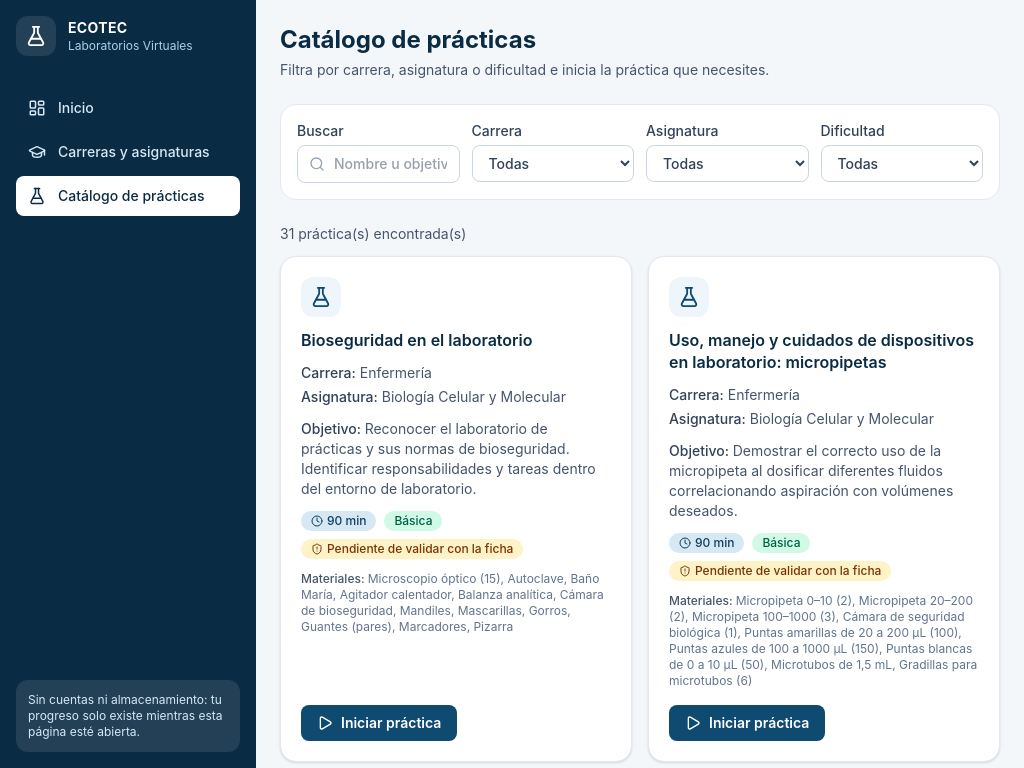
recorrido del estudiante › el catálogo muestra las 31 prácticas y filtra por carrera
The image size is (1024, 768).
expect the text "31 práctica(s) encontrada(s)" is shown: met, box [280,225,466,242]
Step 1. Select "Psicología" in the dropdown labelled "Carrera" → (553, 164), box [472,145,634,182]
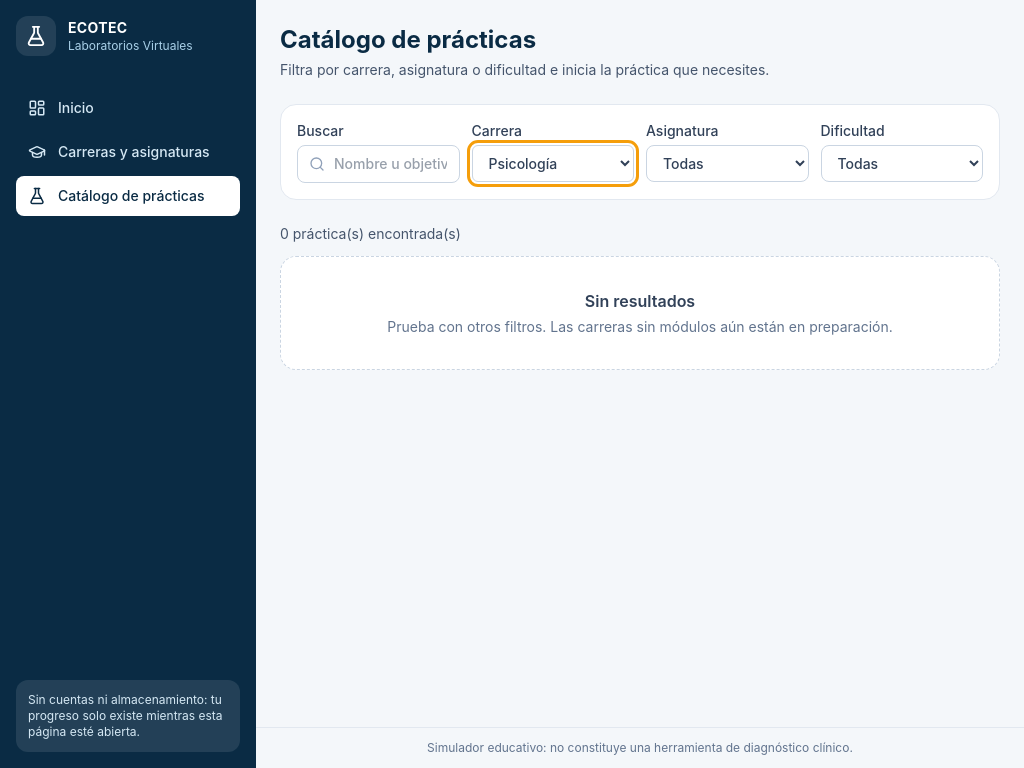
expect the text "0 práctica(s) encontrada(s)" is shown: met, box [280,225,461,242]
Step 2. Select "Medicina" in the dropdown labelled "Carrera" → (553, 164), box [472,145,634,182]
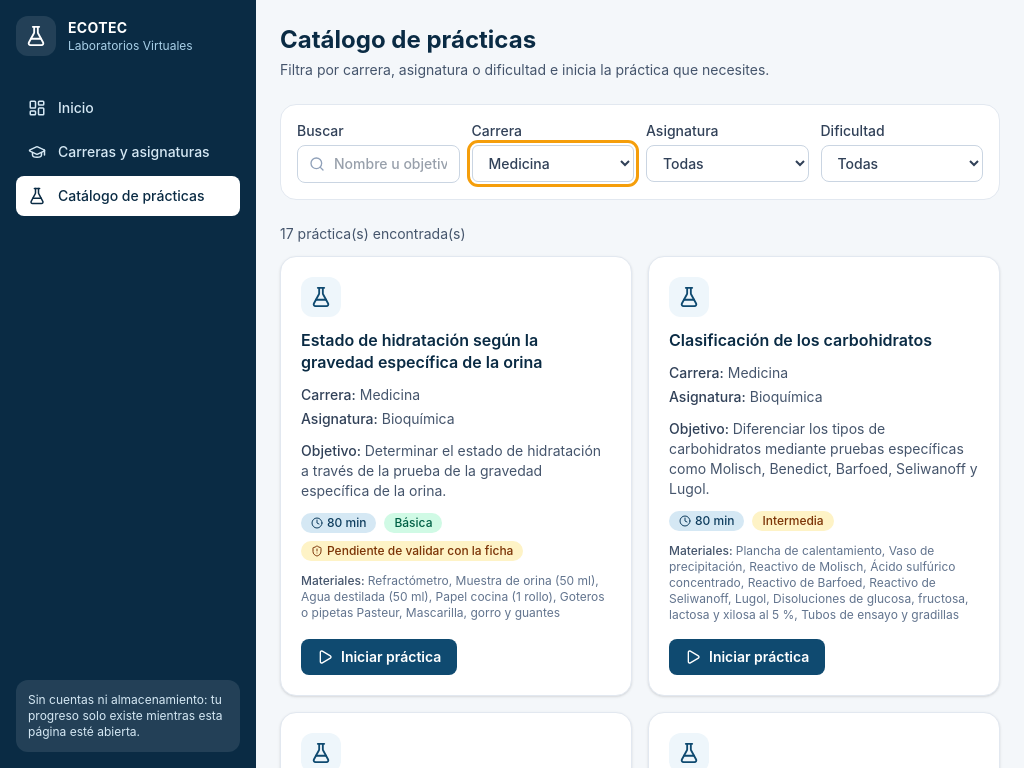
expect the text "17 práctica(s) encontrada(s)" is shown: met, box [280,225,466,242]
